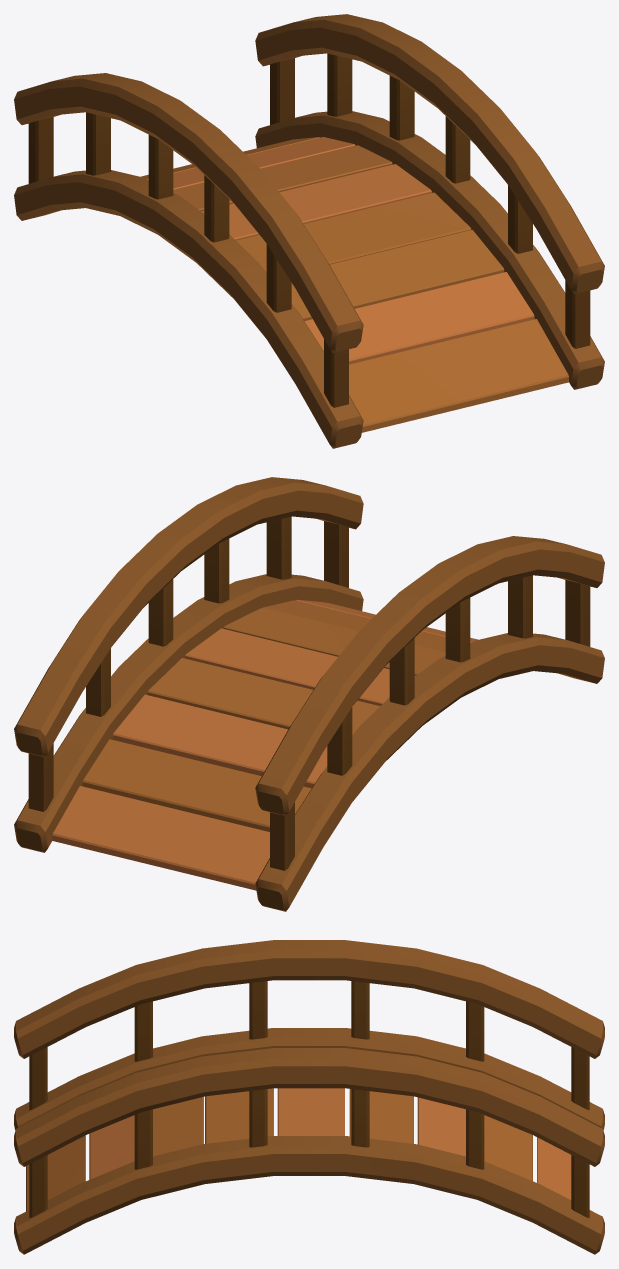
Rendered from Bridge_1_1.glb.
3 renders of one model, top to bottom at view 1: azimuth 30°, elevation 25°; view 2: azimuth 150°, elevation 25°; view 3: azimuth 270°, elevation 25°, orthographic. The views are drawn at different scales.
Parts seen in each view (by area): view 1: Bridge_1_1; view 2: Bridge_1_1; view 3: Bridge_1_1.
Boxes of the visible parts, box(x1,y1,x2,y2) form: Bridge_1_1: box(14, 14, 604, 448); Bridge_1_1: box(14, 477, 604, 911); Bridge_1_1: box(14, 940, 604, 1254).
Bounding box in the file's own units: 2 × 1.5 × 4.09.
Materials: 4 (4 with a texture image).
